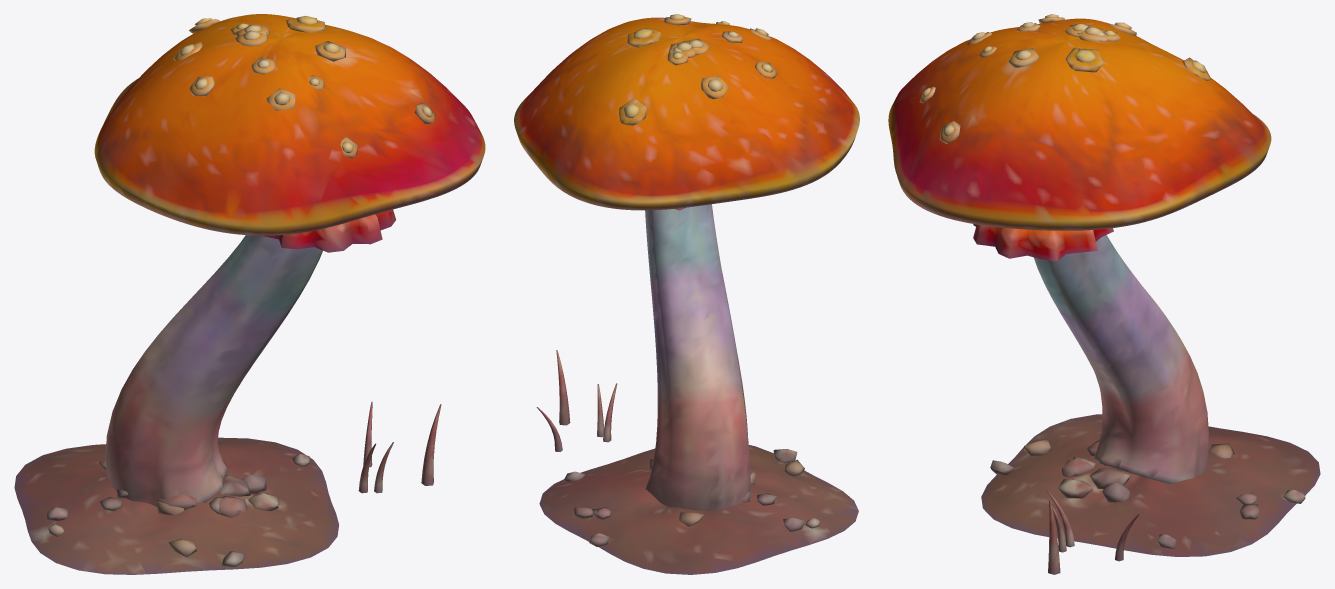
Rendered from mantar_kume_4.glb.
3 views of the same model, side by side, from view 1: azimuth 30°, elevation 25°; view 2: azimuth 150°, elevation 25°; view 3: azimuth 270°, elevation 25° (orthographic). The views are drawn at different scales.
Visible parts, largest first — view 1: mantar_kume_4_LOD0; view 2: mantar_kume_4_LOD0; view 3: mantar_kume_4_LOD0.
Boxes of the visible parts, box(x1,y1,x2,y2) form: mantar_kume_4_LOD0: box(14, 14, 485, 574); mantar_kume_4_LOD0: box(514, 14, 859, 574); mantar_kume_4_LOD0: box(888, 14, 1320, 574).
Size of what is drawn, in the model's own units: 6.12 by 7.8 by 6.16.
